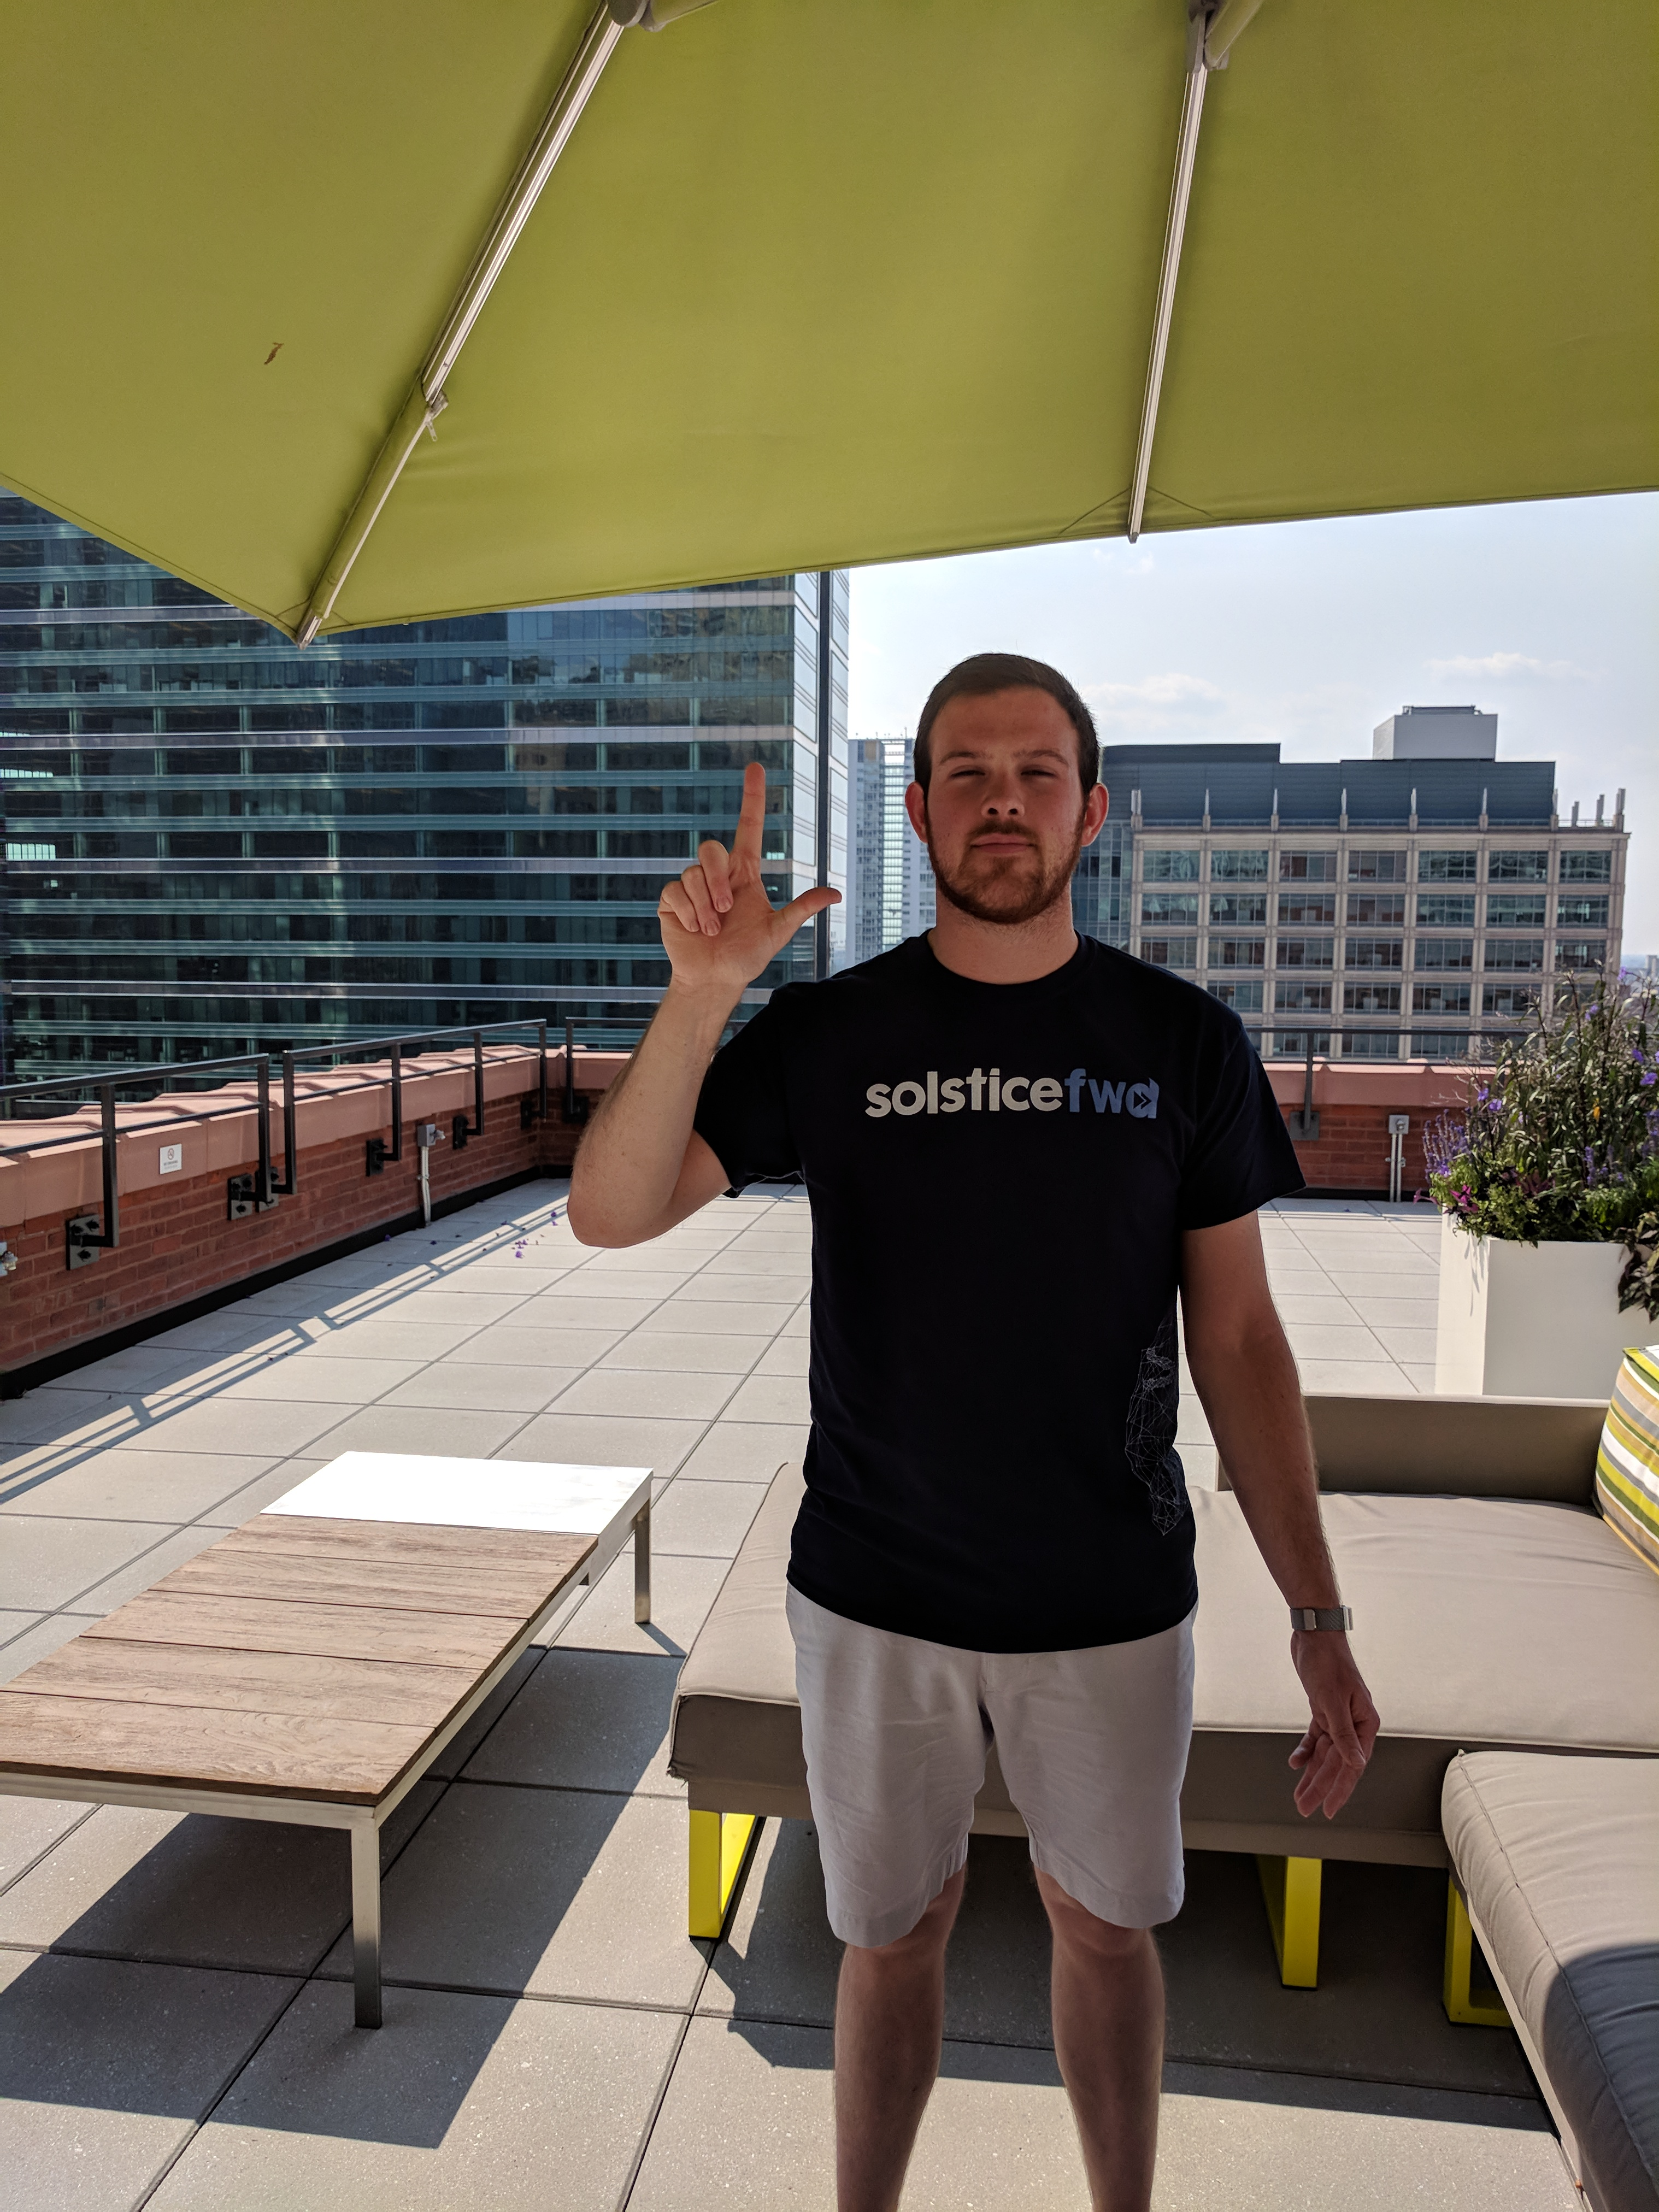l: (653, 756, 859, 1001)
